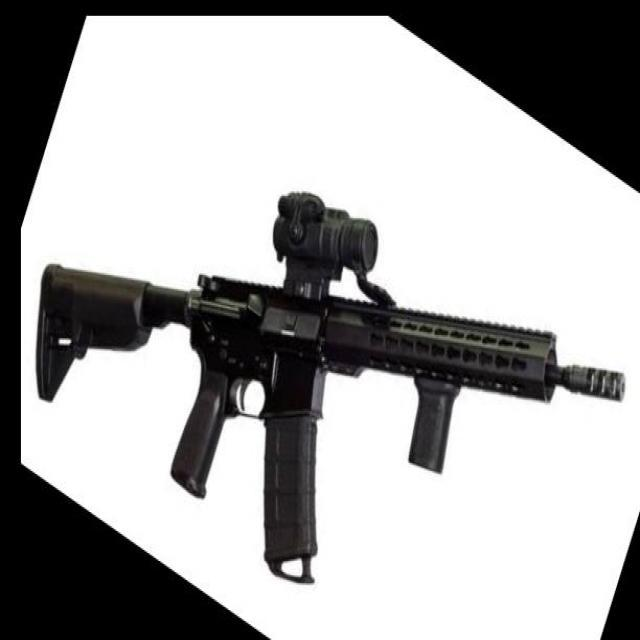weapon: (36, 190, 626, 586)
